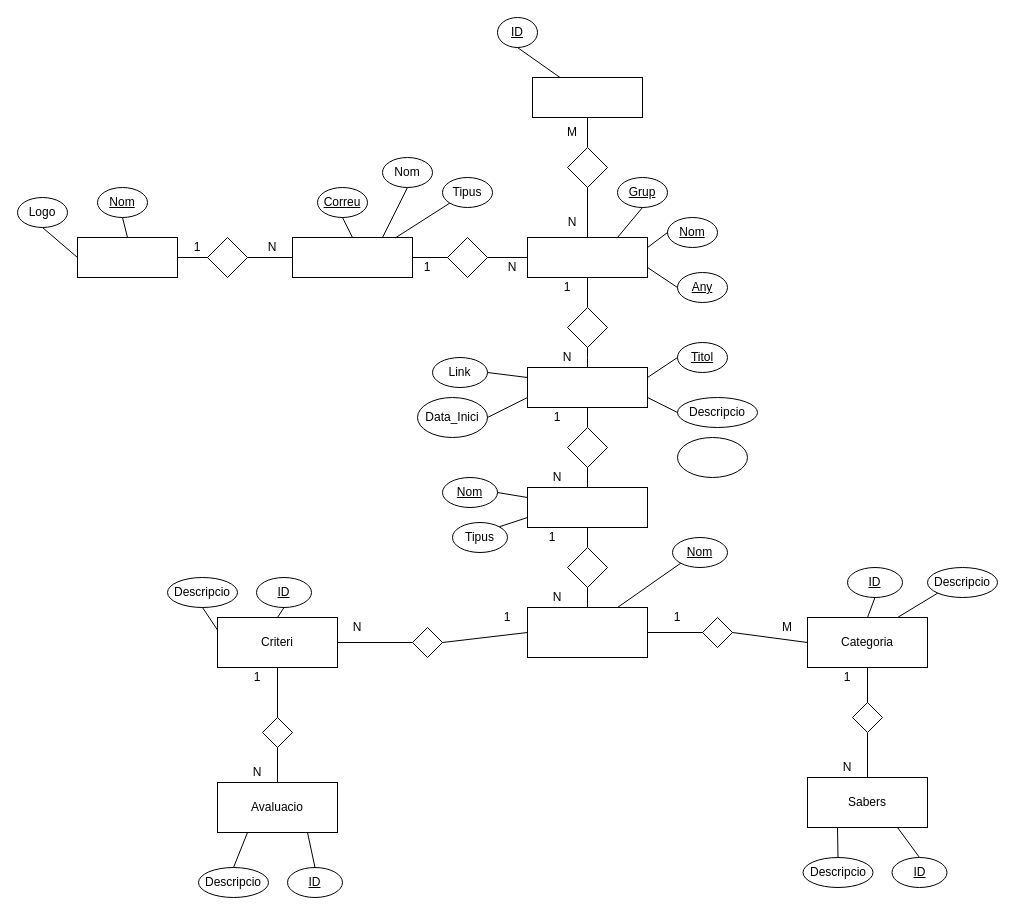
Some shapes in this 1015 by 915 pixel diagram are drawn without their labels. The shapes that lost their labels are listed below. From the top down, each one's centre as x and y in pixels, then its label:
At (587,97): "Historial".
At (127,257): "Centre".
At (352,257): "Usuari".
At (587,257): "Curs".
At (587,387): "Projecte".
At (712,457): "Data_Fi".
At (587,507): "Competencia".
At (587,632): "Assignatura".
